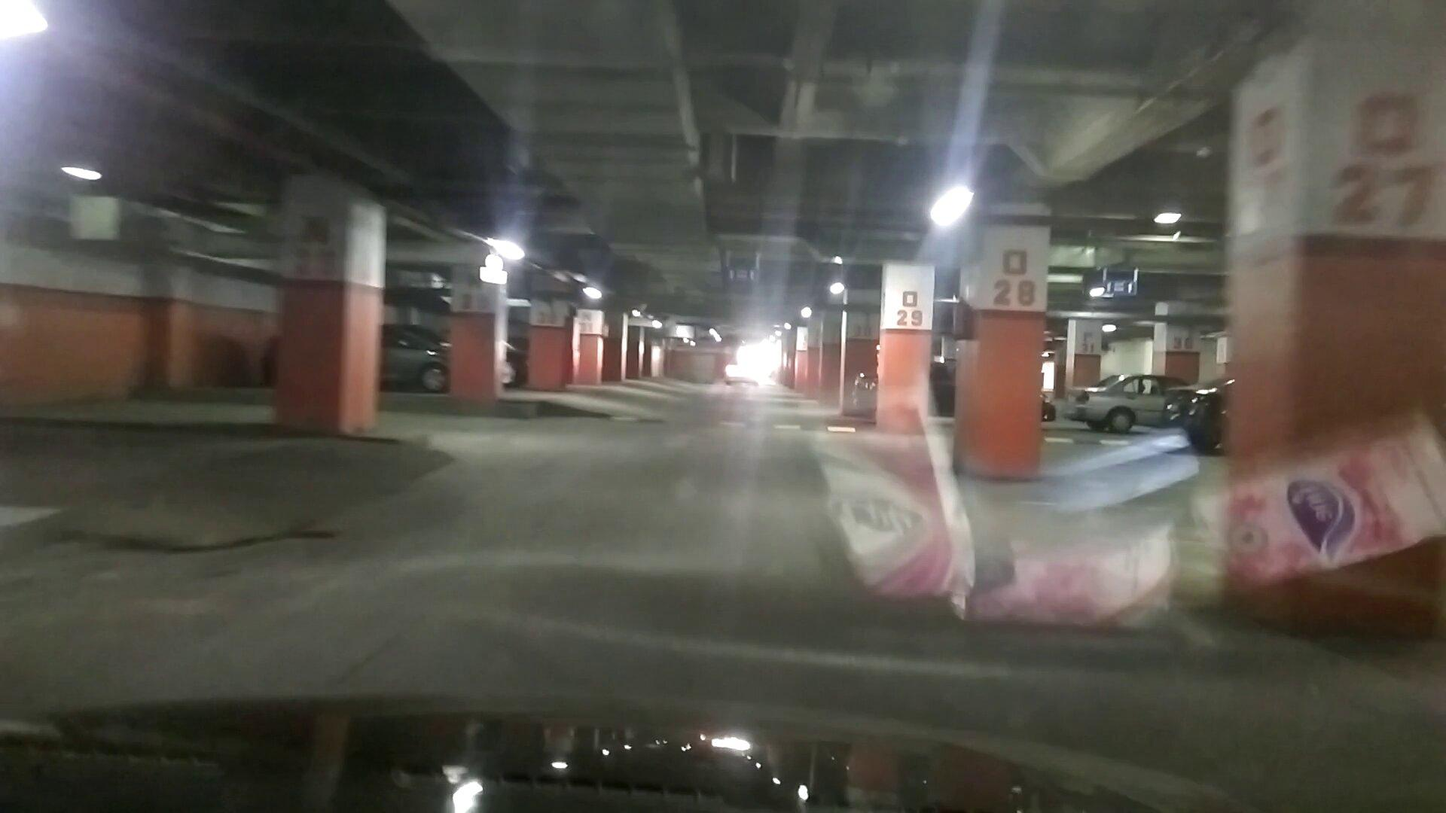Bump: (508, 397, 889, 444)
